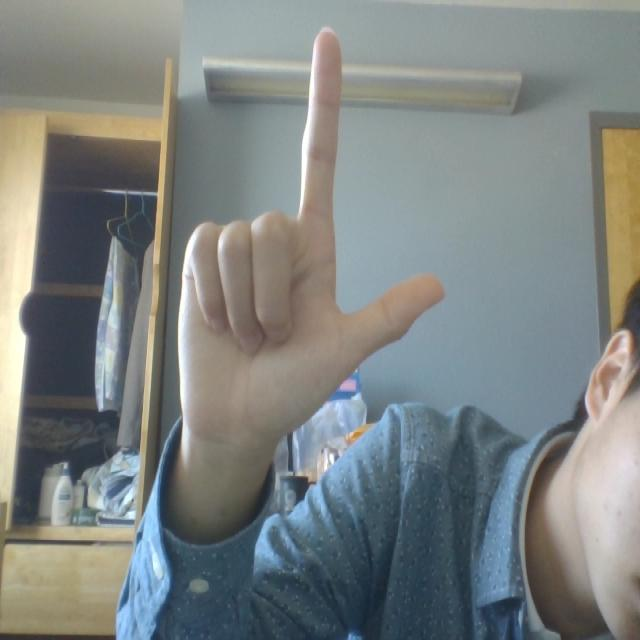L: (151, 7, 453, 491)
